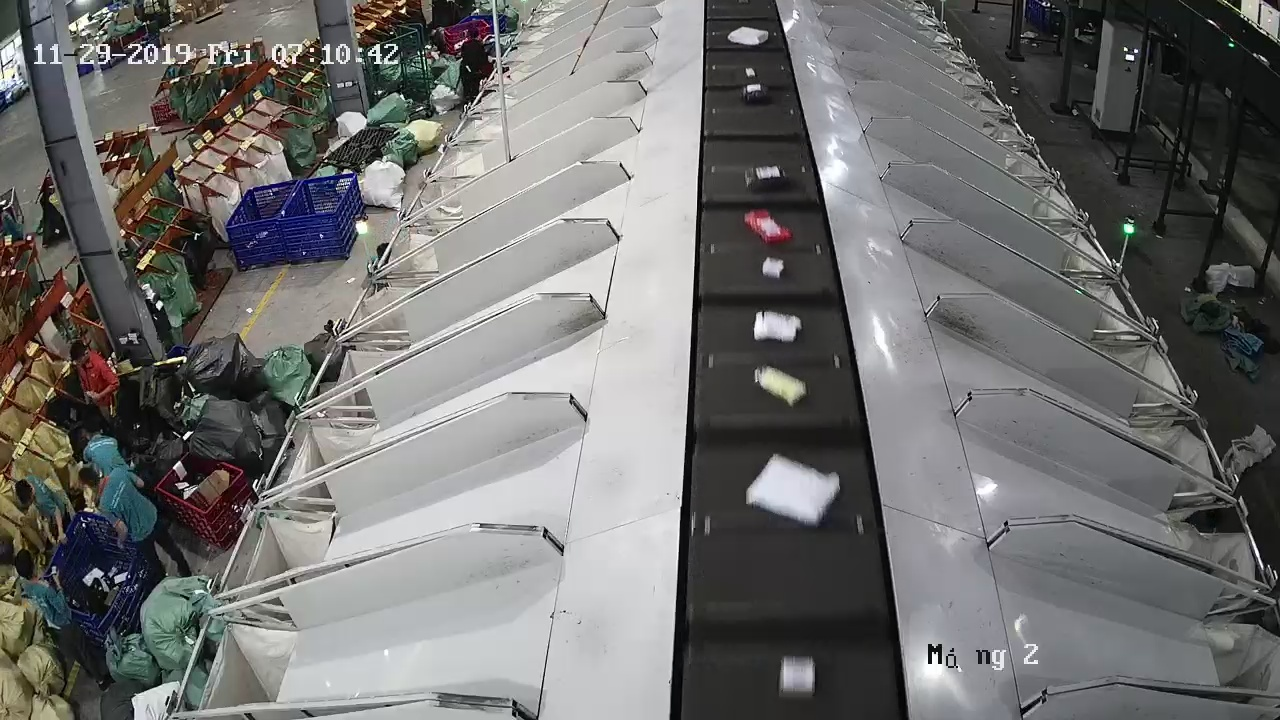parcel: (747, 454, 839, 526), (758, 366, 807, 408), (744, 208, 793, 246), (778, 655, 816, 699), (753, 310, 802, 343), (744, 164, 786, 192), (762, 256, 784, 278)
